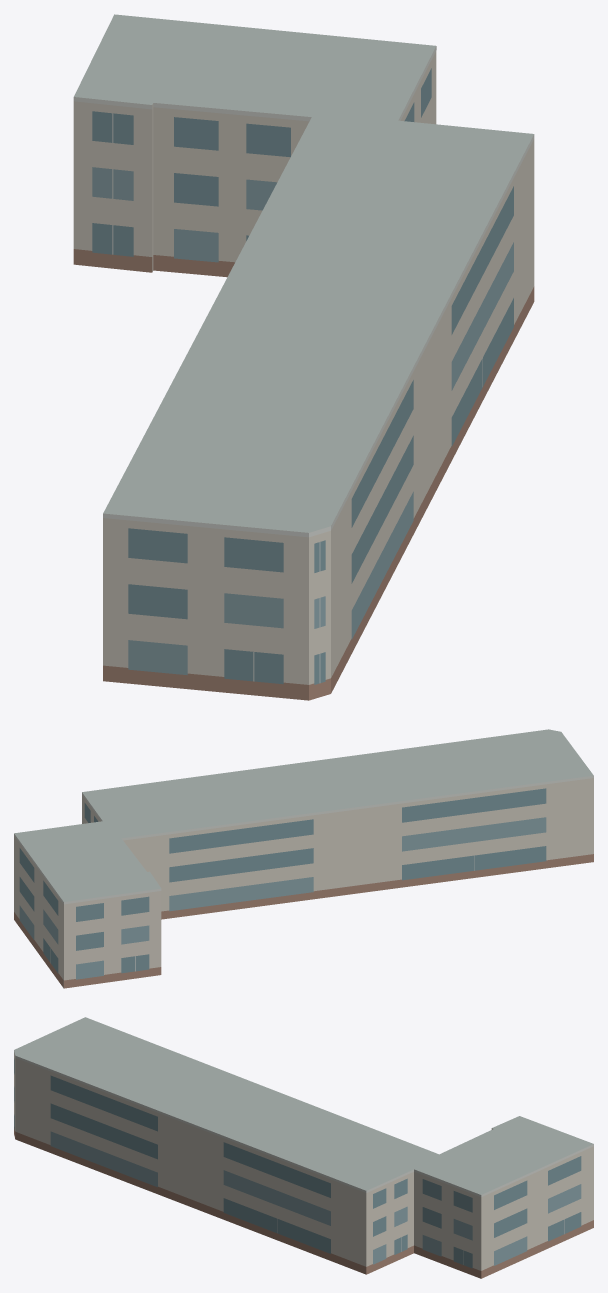
Rendered from survey-upis-32640264.glb.
3 renders of one model, top to bottom at view 1: azimuth 30°, elevation 25°; view 2: azimuth 150°, elevation 25°; view 3: azimuth 270°, elevation 25°, orthographic. The views are drawn at different scales.
Visible parts, largest first — view 1: survey-upis-32640264.tmp; view 2: survey-upis-32640264.tmp; view 3: survey-upis-32640264.tmp.
Part boxes in pixels (left/top/right/bottom): survey-upis-32640264.tmp: left=73, top=14, right=534, bottom=700; survey-upis-32640264.tmp: left=14, top=729, right=593, bottom=988; survey-upis-32640264.tmp: left=14, top=1017, right=593, bottom=1278.
Bounding box in the file's own units: 41.65 × 9.15 × 57.37.
